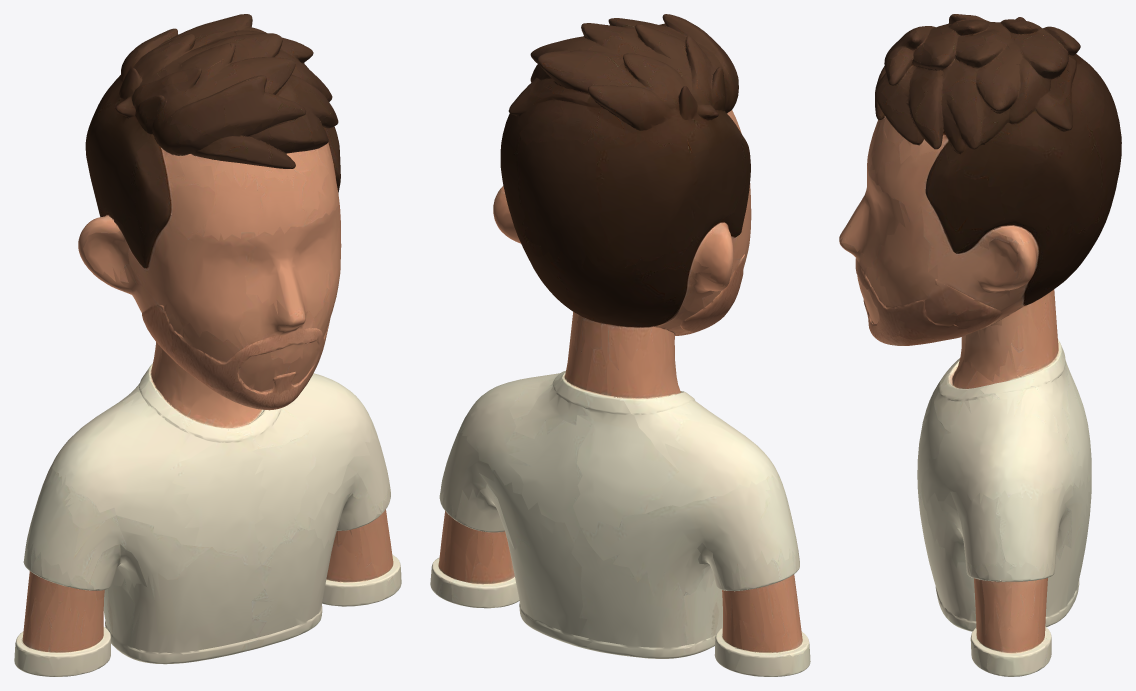
Rendered from dan-avatar.glb.
3 renders of one model, left to right at view 1: azimuth 30°, elevation 25°; view 2: azimuth 150°, elevation 25°; view 3: azimuth 270°, elevation 25°, orthographic. The views are drawn at different scales.
Parts seen in each view (by area): view 1: Body, Head; view 2: Body, Head; view 3: Head, Body.
Boxes of the visible parts, x1=… form: Body: x1=14, y1=365, x2=401, y2=676; Head: x1=78, y1=14, x2=341, y2=410; Body: x1=430, y1=371, x2=810, y2=676; Head: x1=493, y1=14, x2=751, y2=400; Head: x1=839, y1=14, x2=1121, y2=376; Body: x1=917, y1=343, x2=1091, y2=676.
Size of the model in its own units: 1.26 by 1.9 by 0.8598.
Materials: 1 (1 with a texture image).
